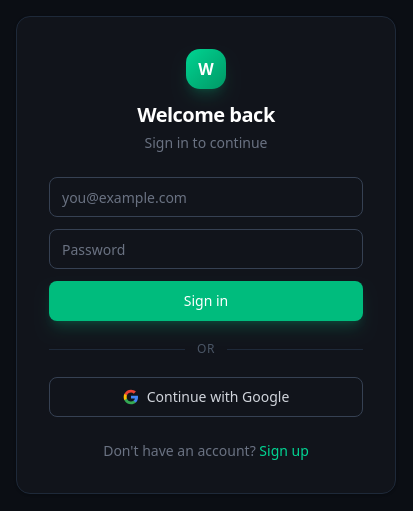
Auth — login submission › disables the submit button while loading
In the field with placeholder "you@example.com": {"x": 206, "y": 197} 49,177 -> 363,217, type "test@axis.dev"
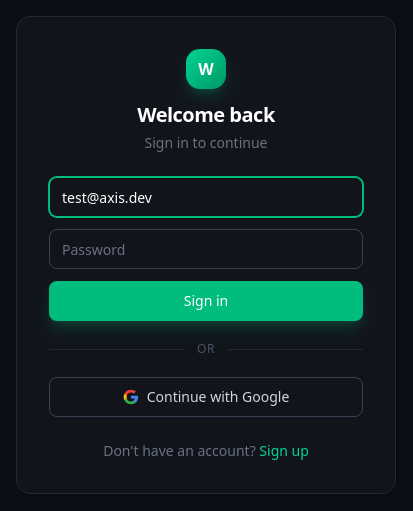
In the password field with placeholder "Password": {"x": 206, "y": 249} 49,229 -> 363,269, type "password123"
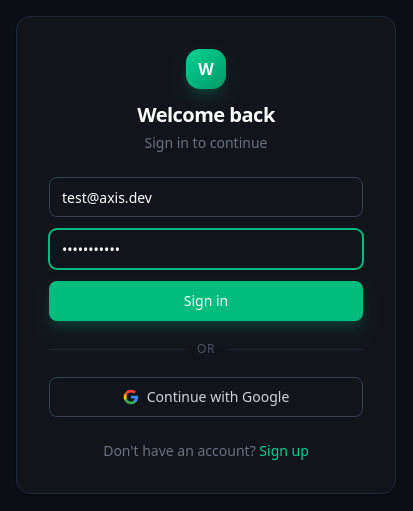
Click the button "Sign in": {"x": 206, "y": 301} 49,281 -> 363,321
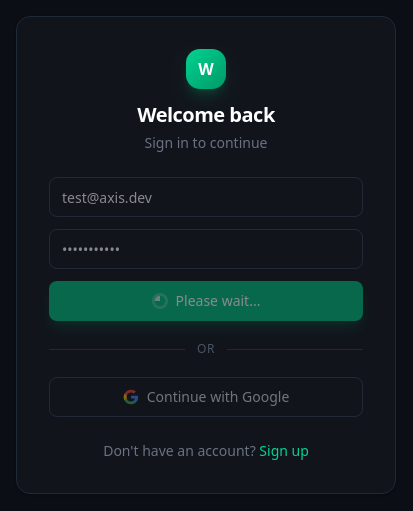
Check: the button named "sign in" is disabled, box 49,281 -> 363,321
